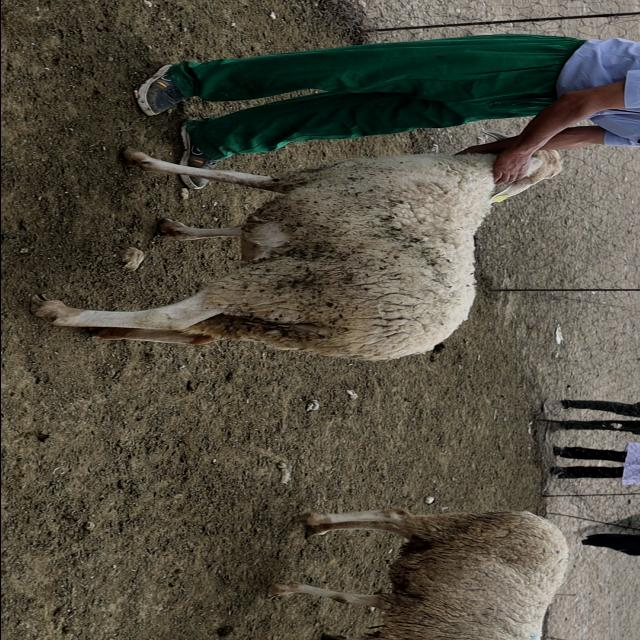Score_5: (31, 145, 561, 361)
